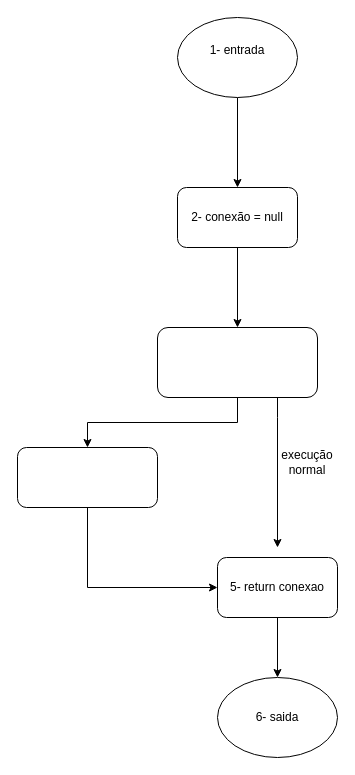
Image size: 355x775. Some labels were removed from this diagram. Each missing label, with the centre of its shape:
3- try: definir URL e DriverManager.getConnection (url): (x=237, y=362)
4- catch (Exception e): erro ignorado: (x=87, y=477)
